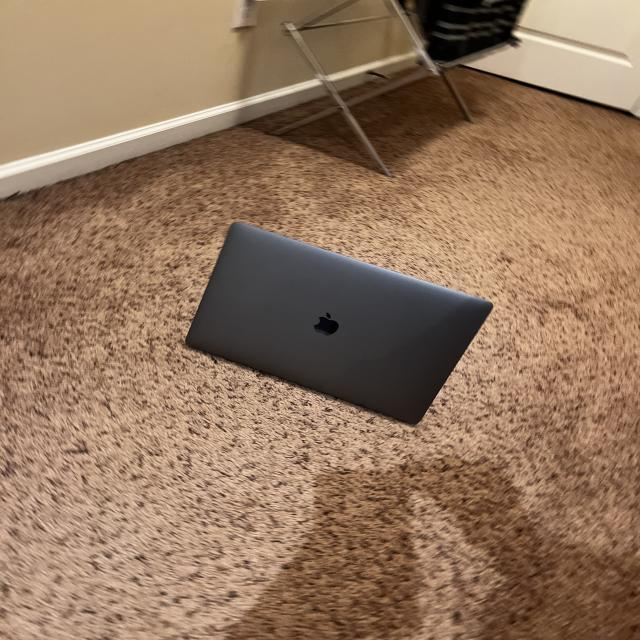laptop: (184, 218, 493, 426)
